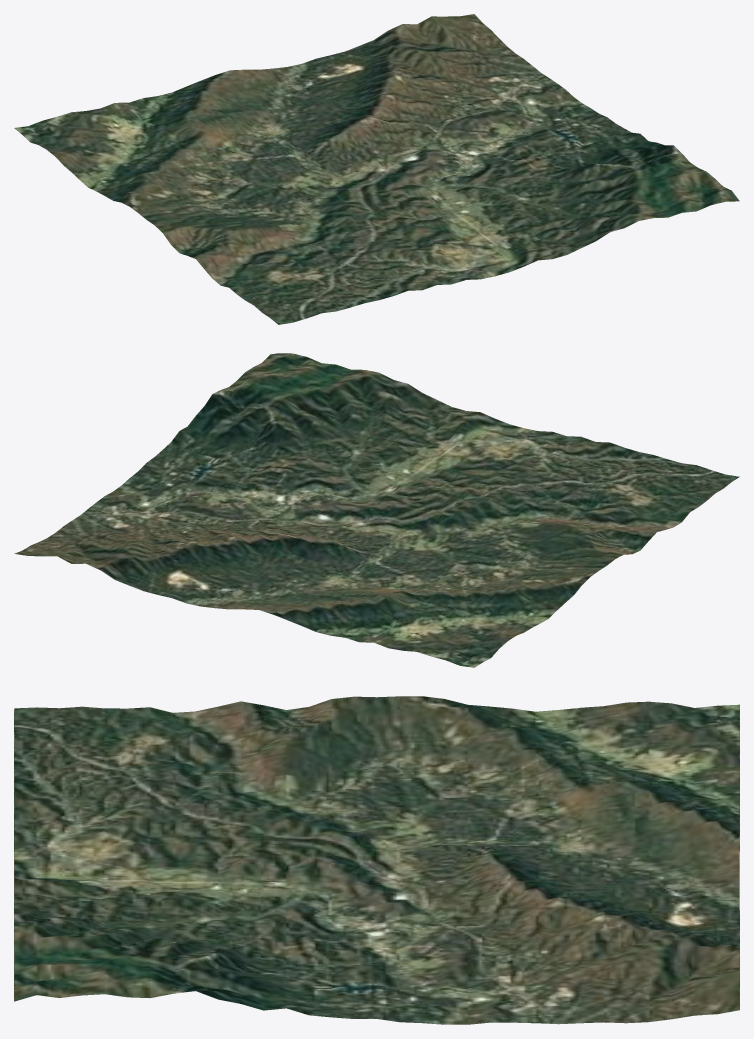
3 views of the same model, one above another, from view 1: azimuth 30°, elevation 25°; view 2: azimuth 150°, elevation 25°; view 3: azimuth 270°, elevation 25° (orthographic). The views are drawn at different scales.
Size of the model in its own units: 15615 by 841 by 15538.
1 material, 1 textured.
